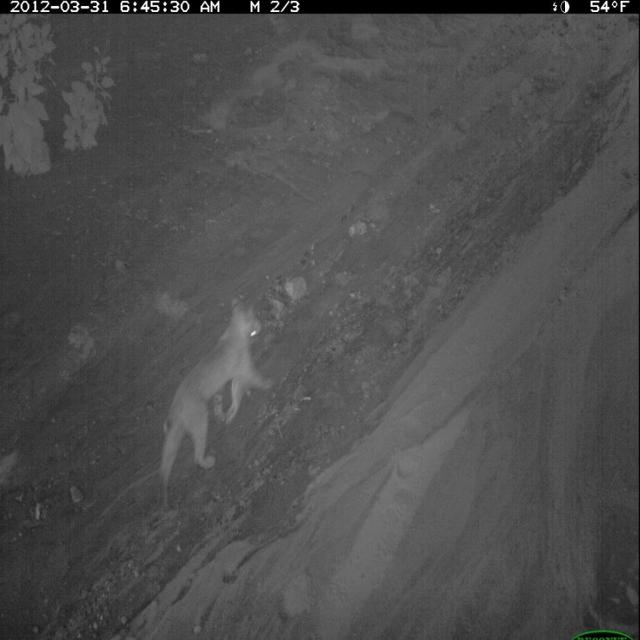bobcat: (153, 290, 277, 516)
rabbit: (222, 369, 256, 433)
